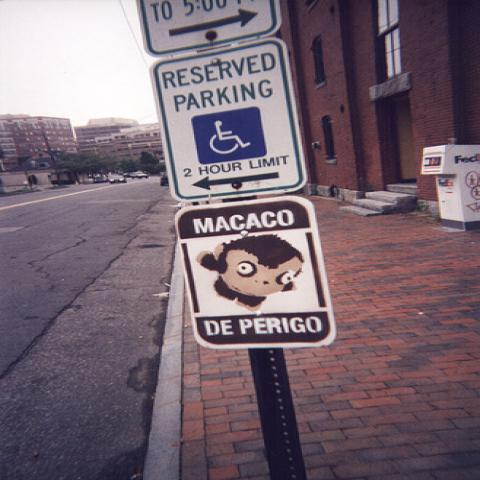car: (129, 171, 150, 180), (107, 174, 125, 183)
